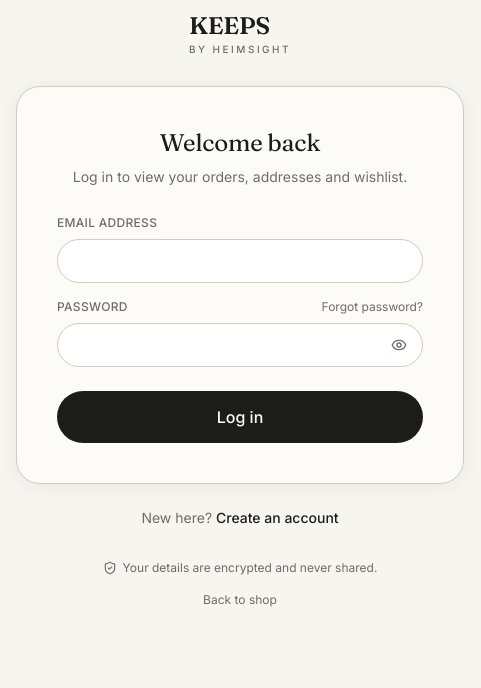
Scenario: LoginForm (component) › displays a server error message on failed login
The width and height of the screenshot is (481, 688).
Type "ada@example.com" into the field labelled "Email address" at (240, 261), box [57,239,423,283]
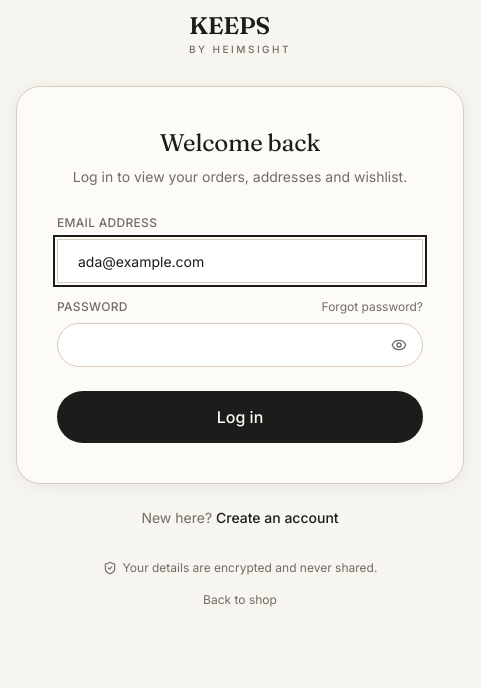
Type "wrongpassword" into the password field labelled "Password" at (240, 345), box [57,323,423,367]
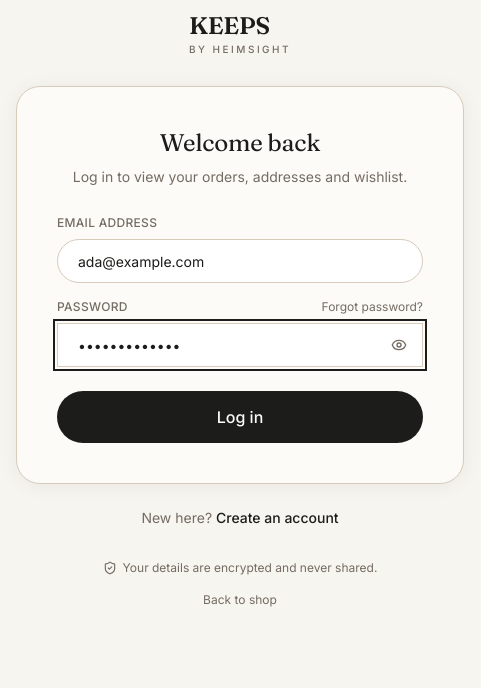
Click the button "Log in" at (240, 417), box [57,391,423,443]
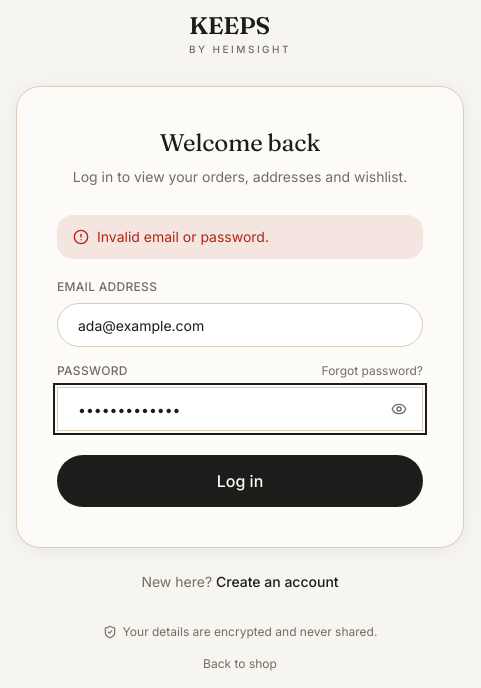
Expected: the text "Invalid email or password." is shown, [57,215,423,259]
